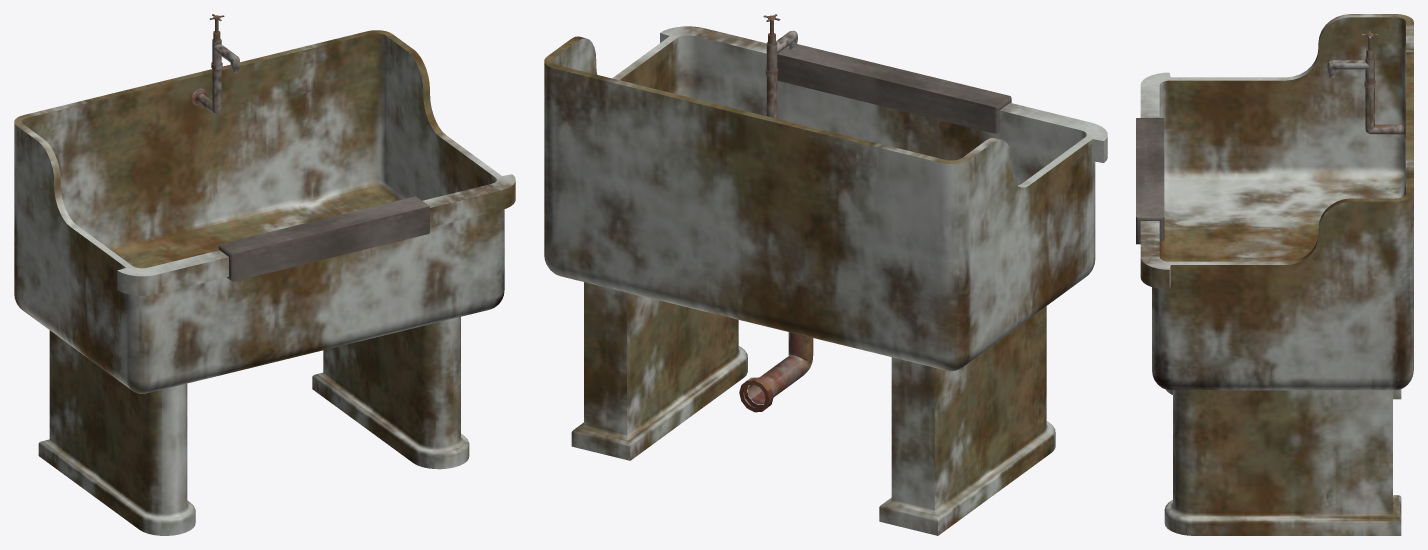
The model's file is Sink.fbx.
3 renders of one model, left to right at view 1: azimuth 30°, elevation 25°; view 2: azimuth 150°, elevation 25°; view 3: azimuth 270°, elevation 25°, orthographic. The views are drawn at different scales.
Visible parts, largest first — view 1: Sink_Sink_0; view 2: Sink_Sink_0; view 3: Sink_Sink_0.
Part boxes in pixels (x1,y1,x2,y2): Sink_Sink_0: [14, 14, 515, 535]; Sink_Sink_0: [544, 14, 1107, 535]; Sink_Sink_0: [1136, 14, 1413, 535].
Size of the model in its own units: 159 by 158 by 94.54.
Materials: 1 (1 with a texture image).
